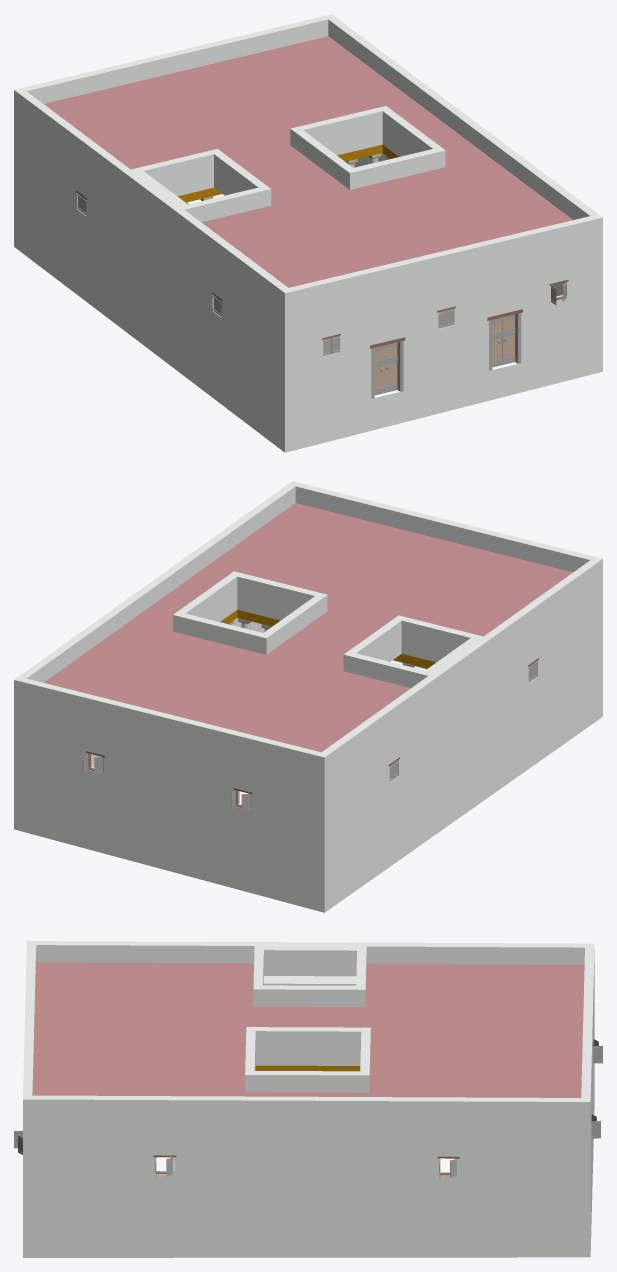
Rendered from LOD_Block_2_76.glb.
3 views of the same model, one above another, from view 1: azimuth 30°, elevation 25°; view 2: azimuth 150°, elevation 25°; view 3: azimuth 270°, elevation 25° (orthographic). The views are drawn at different scales.
Parts seen in each view (by area): view 1: _1.3796; view 2: _1.3796; view 3: _1.3796.
Part boxes in pixels (x1,y1,x2,y2): _1.3796: [14, 14, 602, 452]; _1.3796: [14, 481, 602, 912]; _1.3796: [14, 941, 602, 1257].
Size of the model in its own units: 20.48 by 9.53 by 31.01.
Materials: 3 (3 with a texture image).
